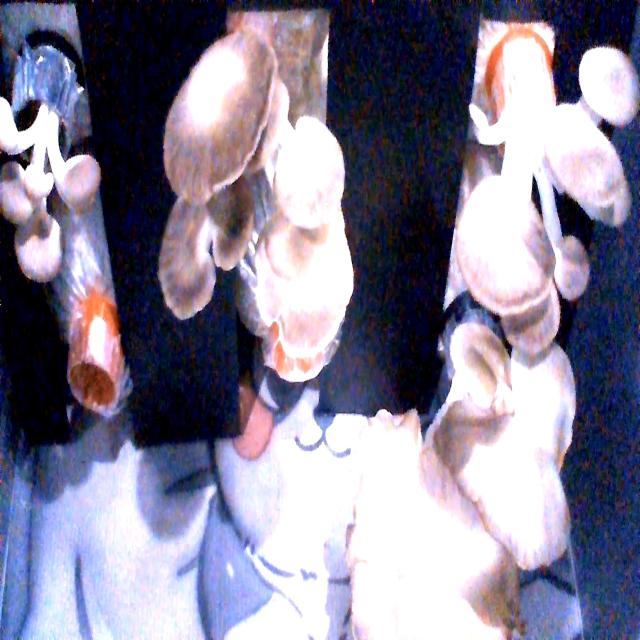big: (166, 40, 364, 413), (354, 351, 583, 640), (465, 45, 635, 352)
nfound: (54, 336, 136, 438)
small: (0, 95, 105, 288)
